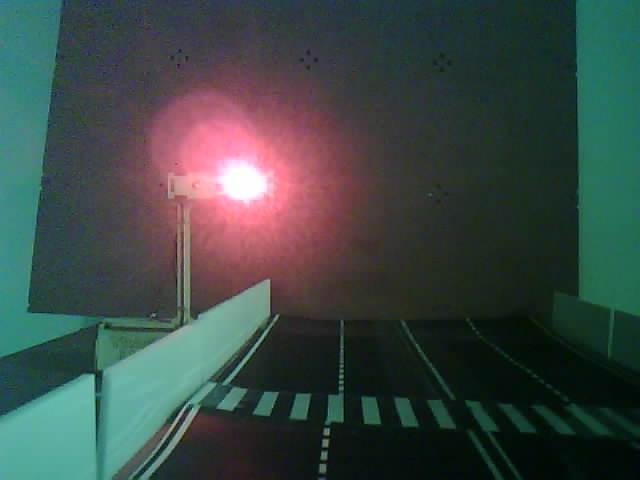crosswalk: (142, 364, 640, 475)
red: (92, 85, 371, 345)
